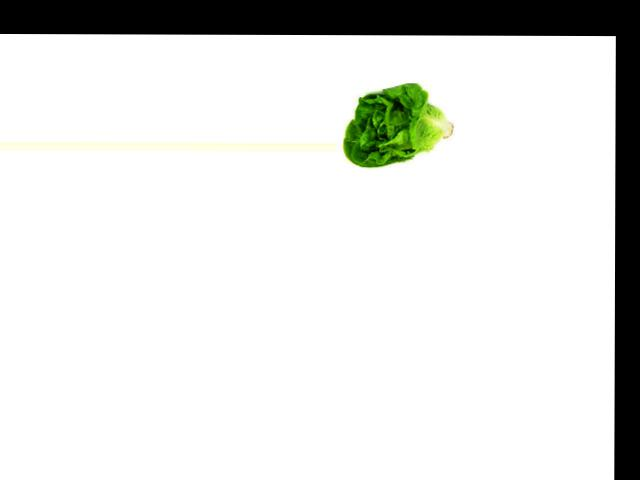lettuce: (343, 77, 457, 170)
